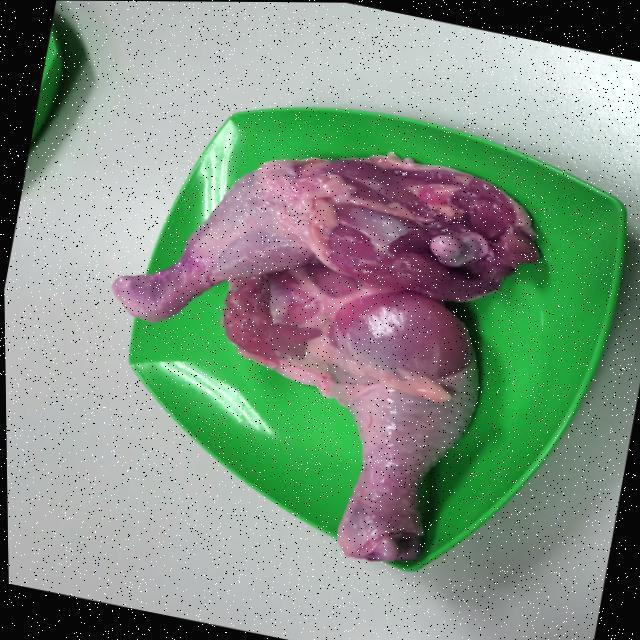quater: (89, 159, 569, 313), (230, 274, 476, 568)
